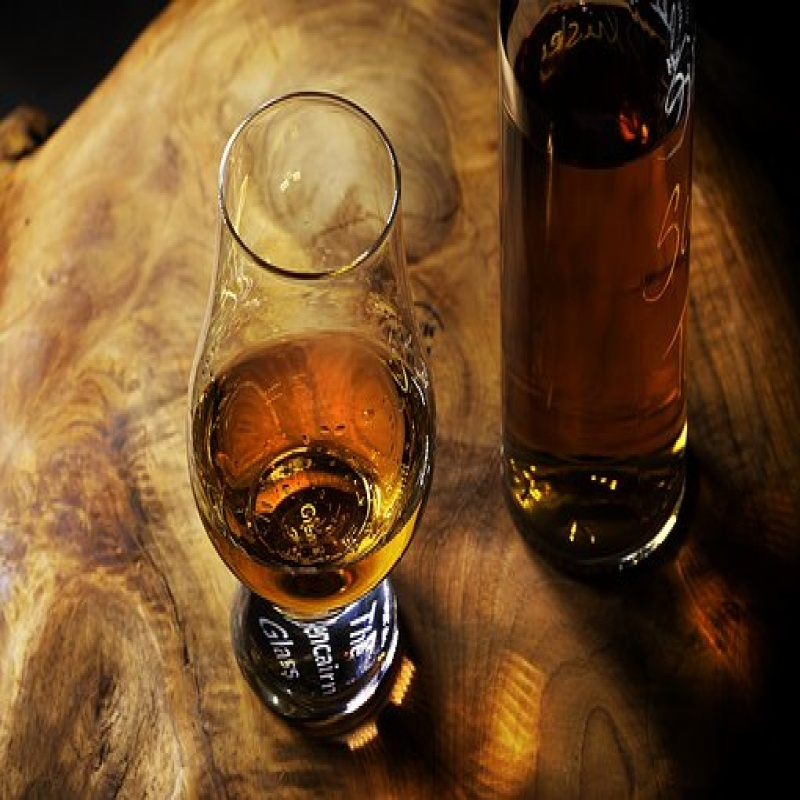whiskey: (189, 89, 433, 642)
